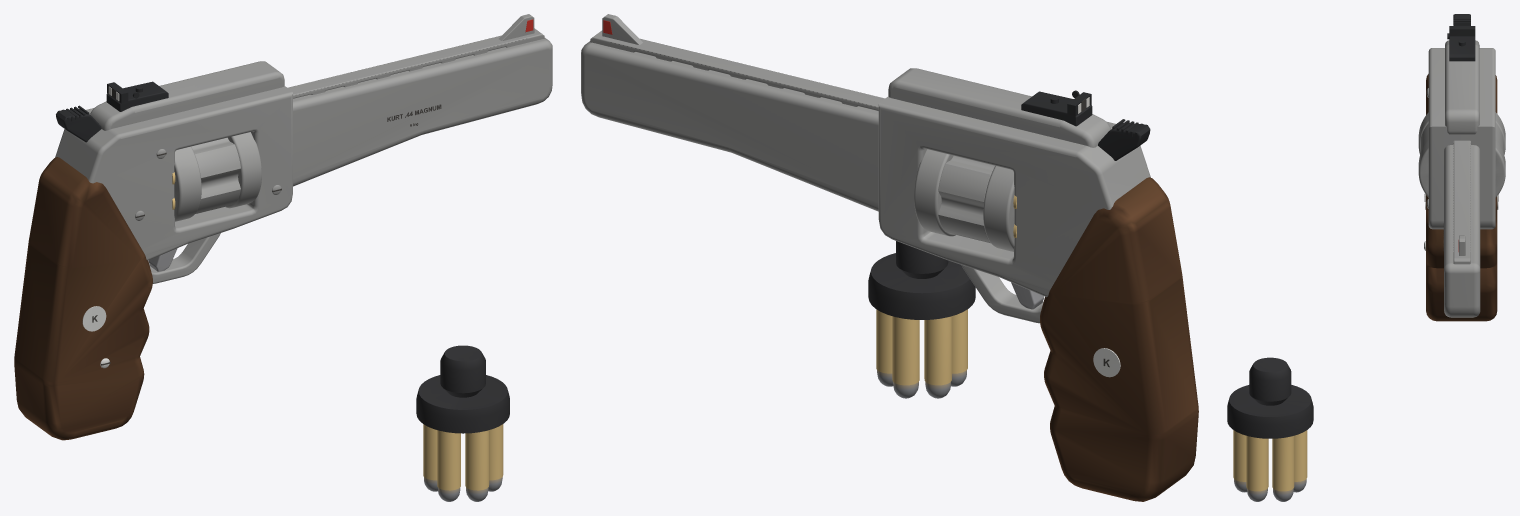
File: kurt44.glb
3 renders of one model, left to right at view 1: azimuth 30°, elevation 25°; view 2: azimuth 150°, elevation 25°; view 3: azimuth 270°, elevation 25°, orthographic. The views are drawn at different scales.
Visible parts, largest first — view 1: kabza, cerceve, namlu, hizli_doldurucu, silindir; view 2: kabza, cerceve, namlu, hizli_doldurucu, silindir; view 3: cerceve, hizli_doldurucu, namlu, kabza, silindir.
Part boxes in pixels (x1,y1,x2,y2): kabza: (14, 157, 152, 440); cerceve: (55, 61, 292, 283); namlu: (287, 14, 552, 186); hizli_doldurucu: (416, 345, 509, 501); silindir: (172, 132, 261, 221); kabza: (1040, 177, 1198, 501); cerceve: (878, 68, 1150, 323); namlu: (581, 14, 884, 211); hizli_doldurucu: (868, 241, 975, 398); silindir: (914, 149, 1016, 251); cerceve: (1426, 14, 1495, 229); hizli_doldurucu: (1227, 357, 1313, 501); namlu: (1443, 140, 1480, 317); kabza: (1424, 74, 1498, 321); silindir: (1418, 112, 1505, 197).
Bounding box in the file's own units: 0.2869 × 0.204 × 0.1452.
